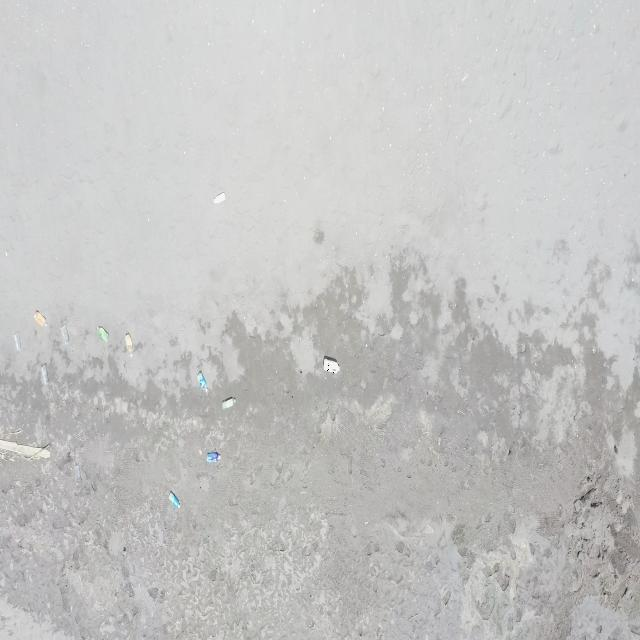plastic-bottle: (323, 356, 340, 374)
